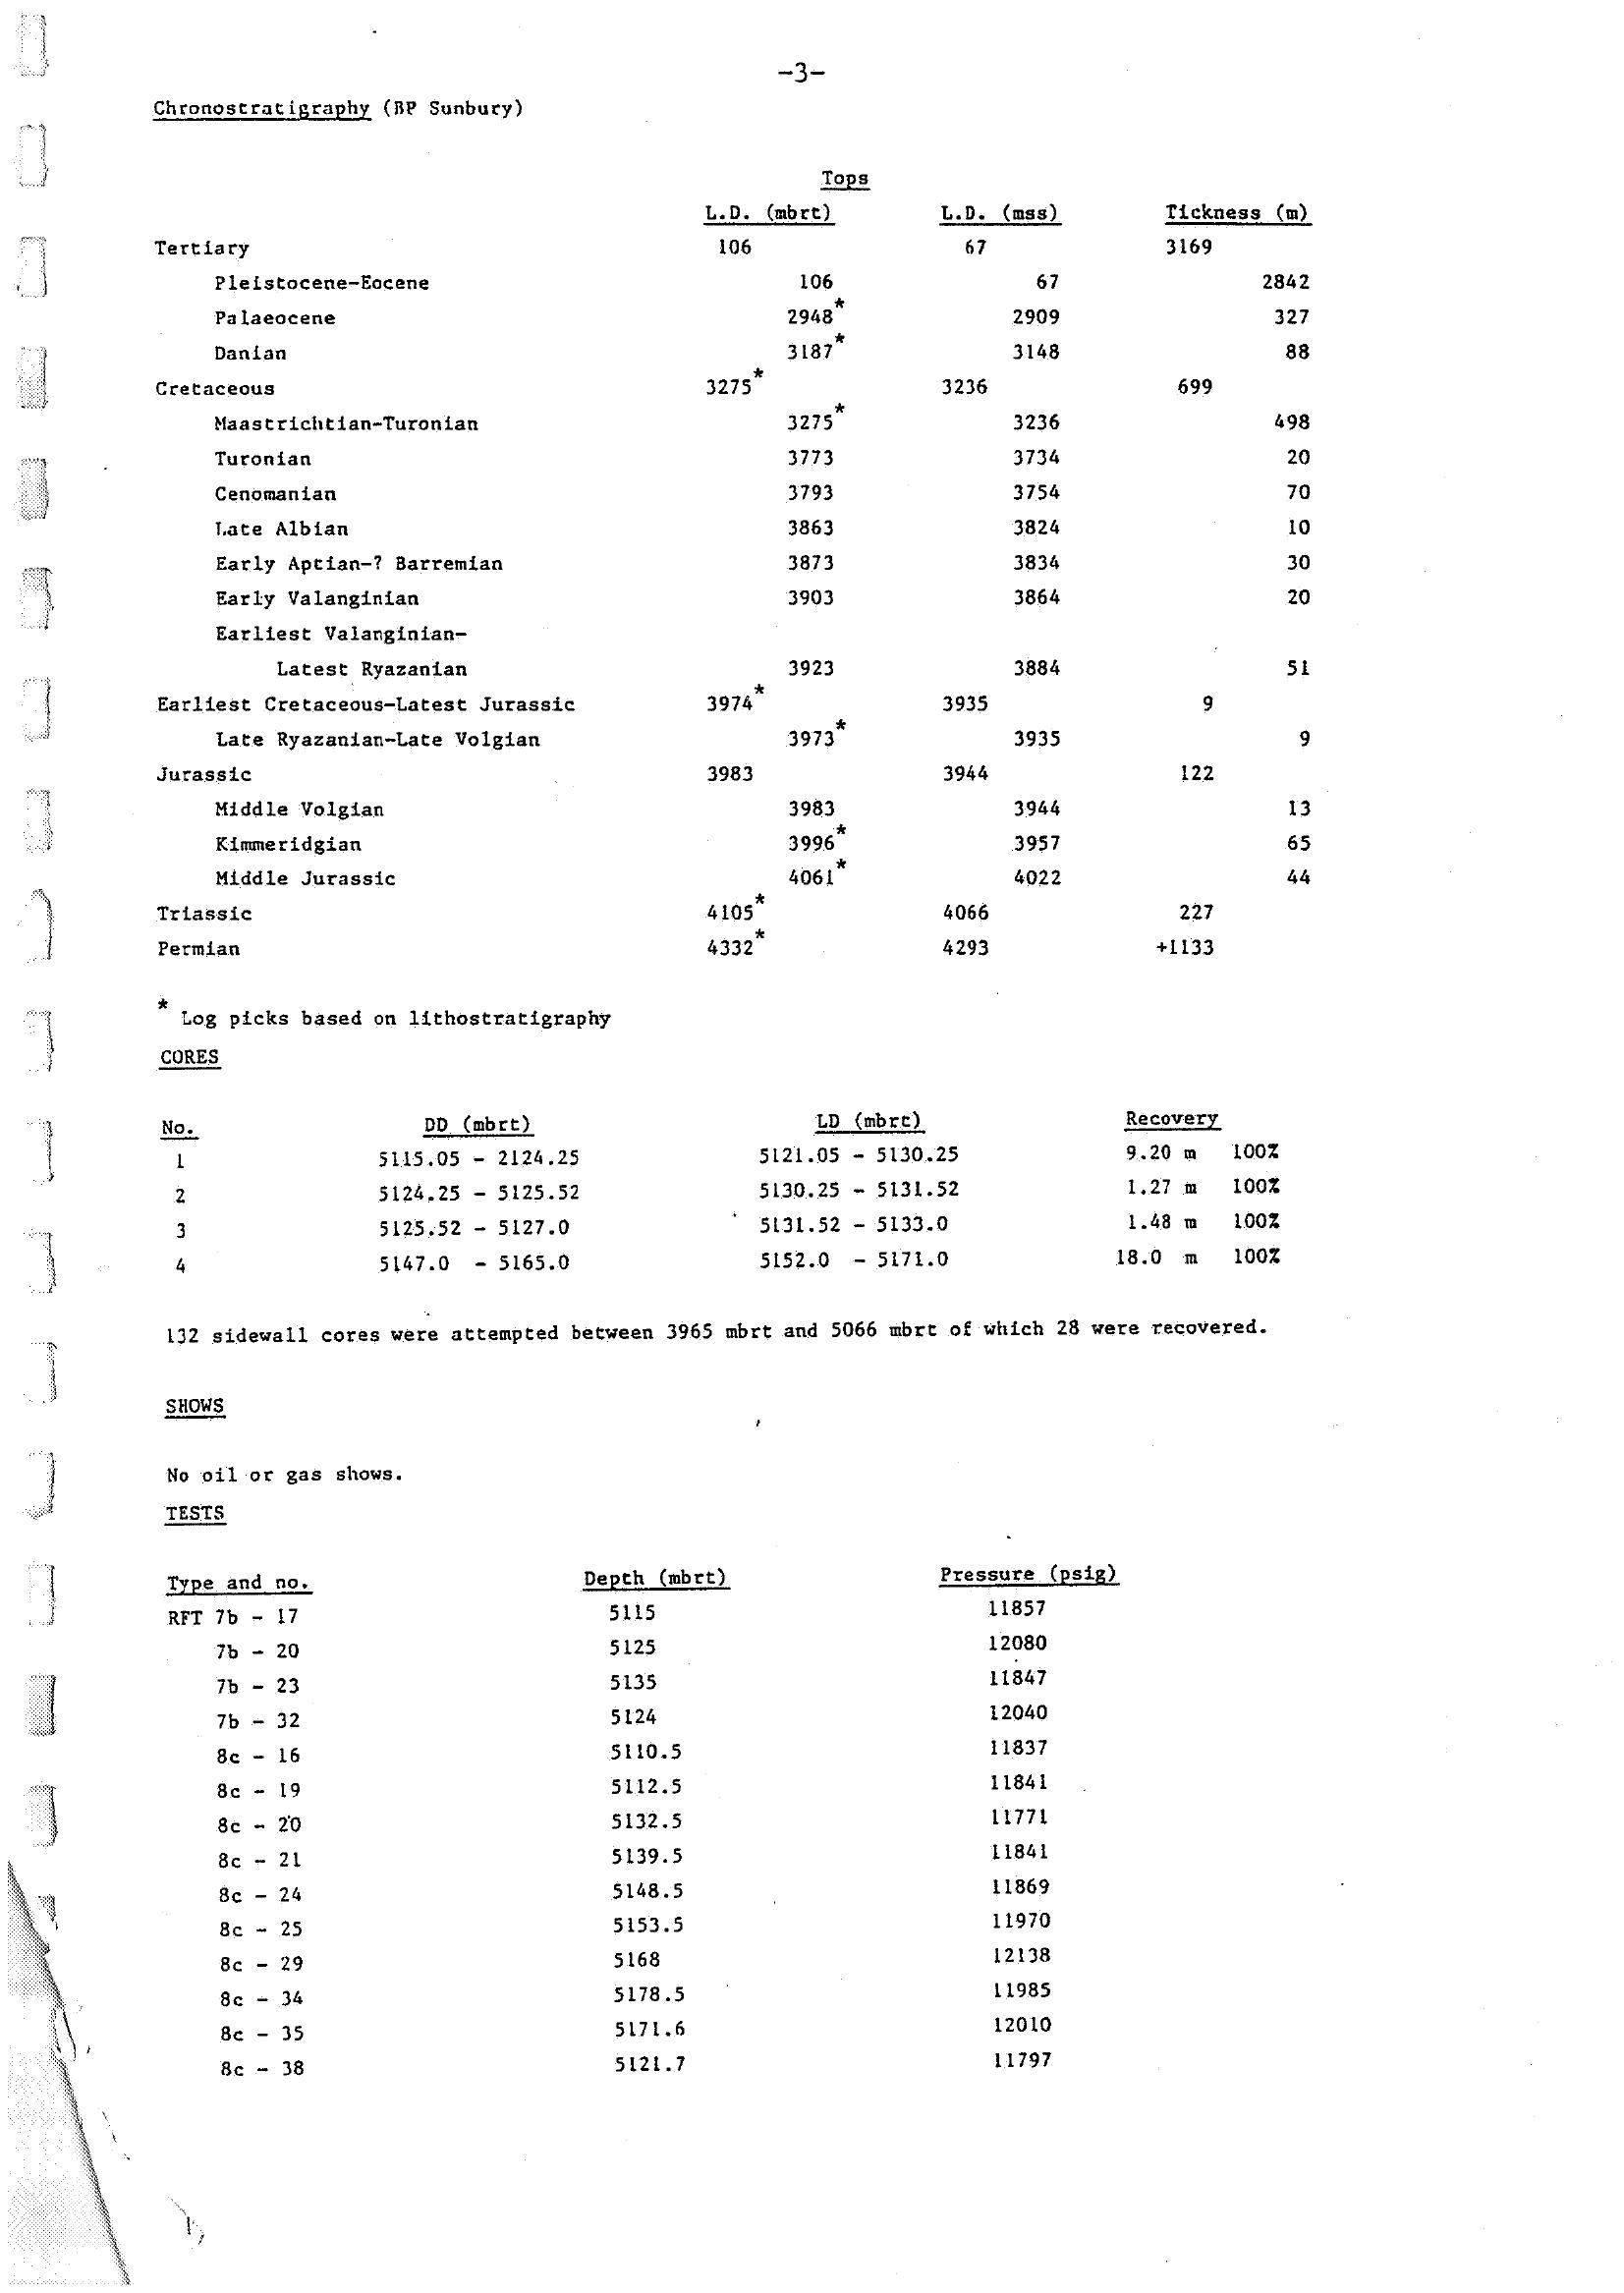table: (104, 79, 1355, 973), (132, 1506, 1183, 2128), (109, 1042, 1338, 1298)
text: (144, 1309, 1292, 1360), (144, 1386, 452, 1499), (109, 979, 629, 1042)
